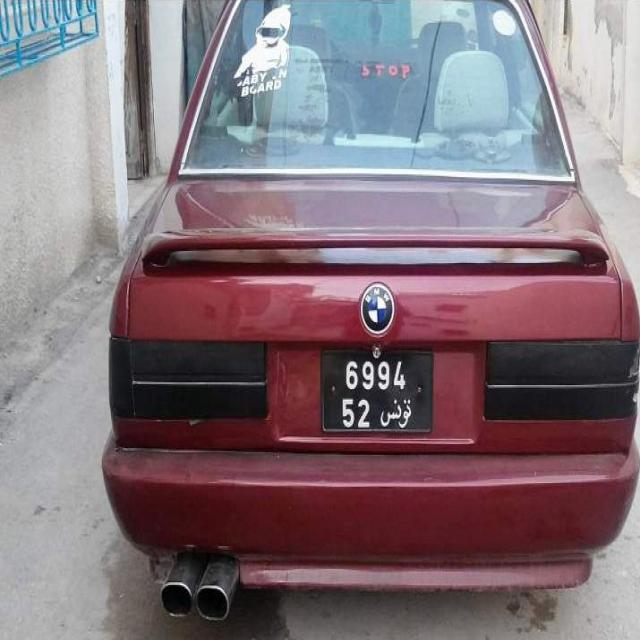licence plate: (325, 358, 429, 429)
